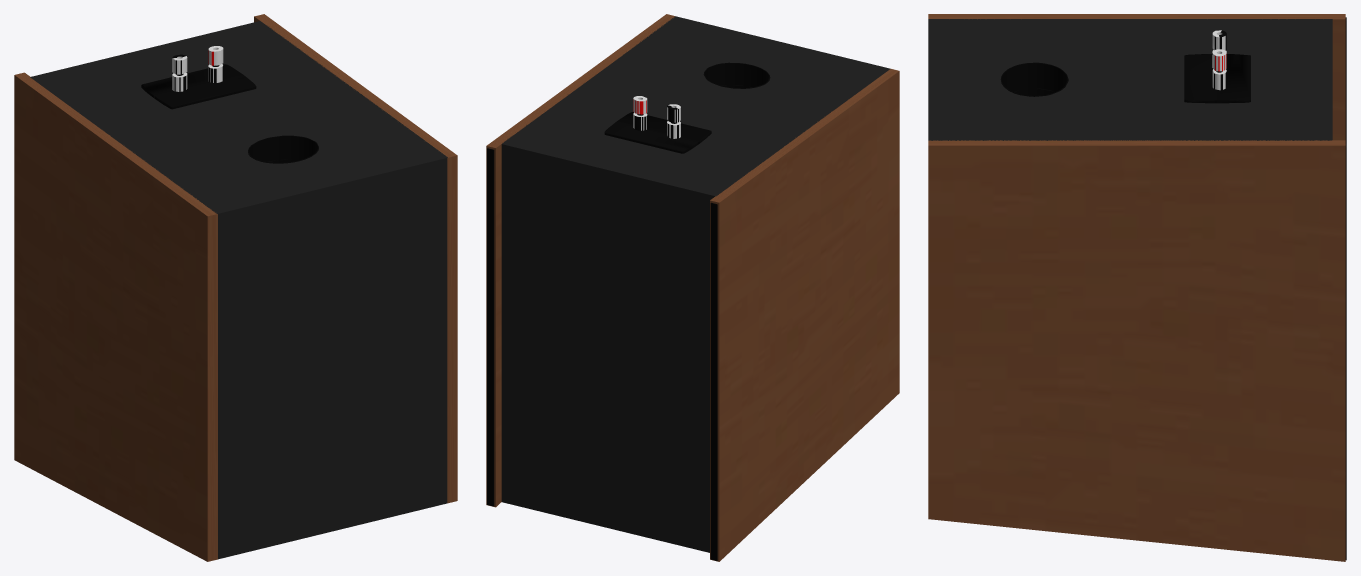
Rendered from spk-edifier-r1280db_lod1.glb.
The picture shows the model from 3 angles, left to right: view 1: azimuth 30°, elevation 25°; view 2: azimuth 150°, elevation 25°; view 3: azimuth 270°, elevation 25°; orthographic projection. The views are drawn at different scales.
Parts seen in each view (by area): view 1: body; view 2: body; view 3: body.
Boxes of the visible parts, x1=… form: body: x1=14, y1=14, x2=457, y2=561; body: x1=486, y1=14, x2=899, y2=561; body: x1=928, y1=14, x2=1346, y2=561.
Size of the model in its own units: 0.146 by 0.234 by 0.196.
8 materials, 2 textured.
